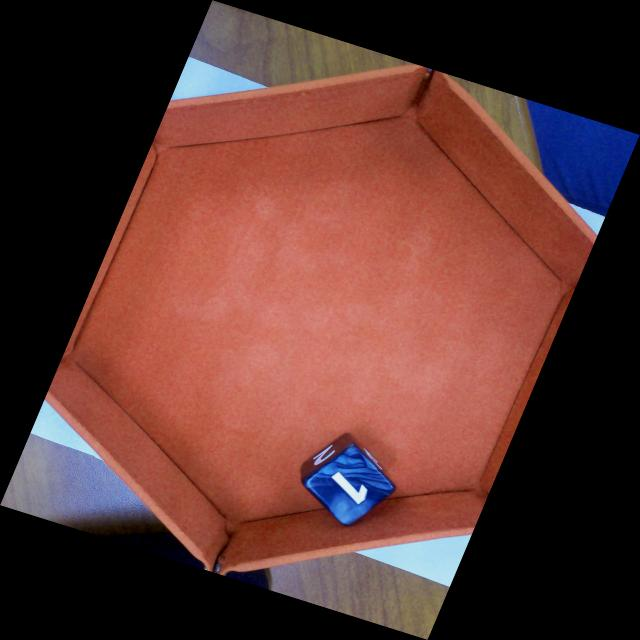dice: (301, 438, 399, 528)
